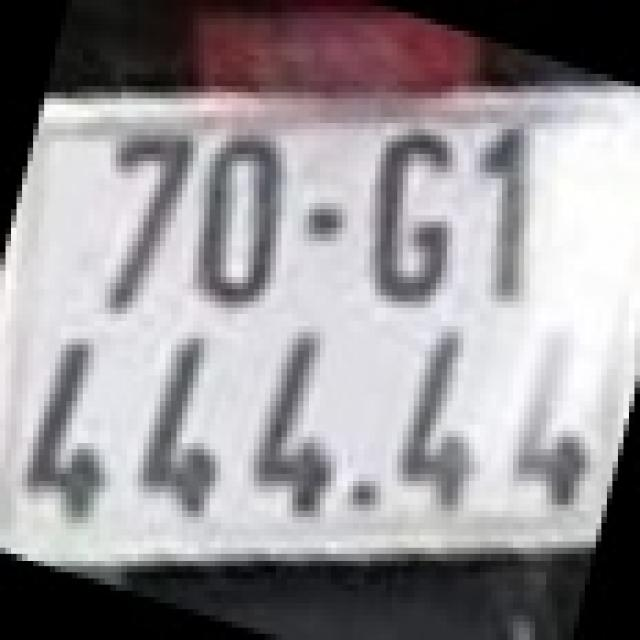0: (198, 135, 282, 308)
1: (475, 117, 535, 301)
4: (507, 314, 596, 511), (22, 332, 110, 523), (397, 326, 480, 517), (254, 326, 336, 517), (138, 332, 221, 517)
7: (105, 135, 193, 314)
G: (370, 123, 458, 308)
